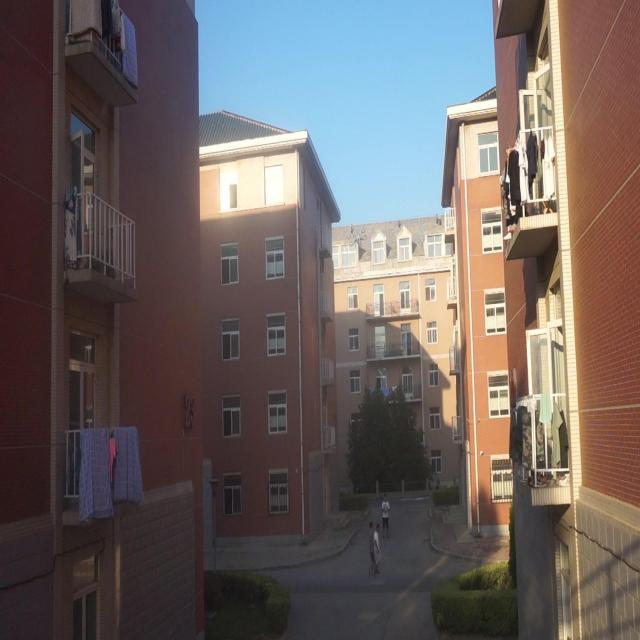UAV: (347, 228, 367, 247)
